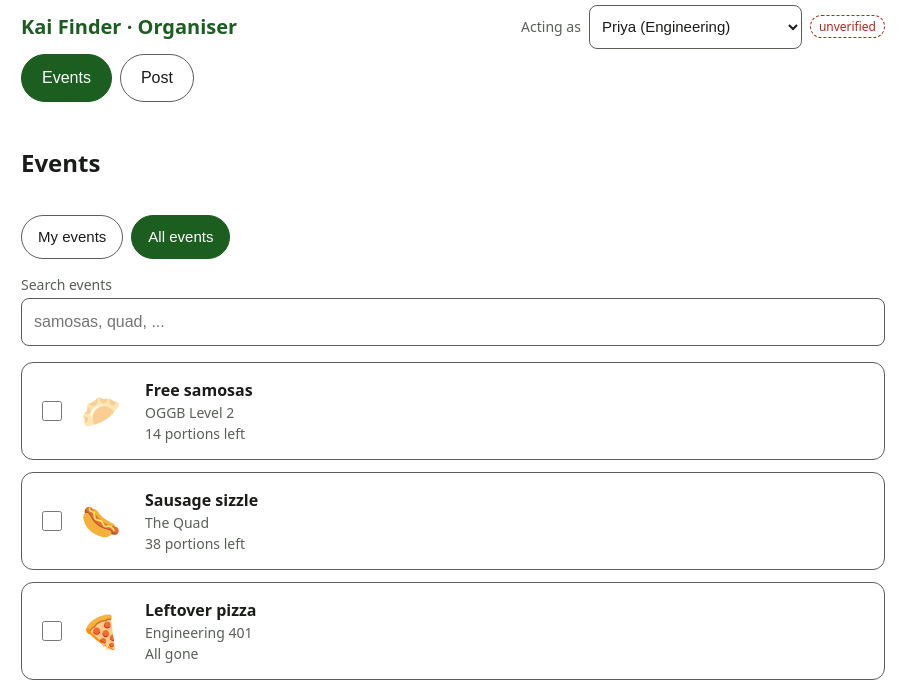
Test case: organisers › distinguishes an organiser with no events from an empty campus
Expected: the heading "Free samosas" is shown, [145,379,253,401]
Click the button "My events" at (72, 237), box [21,215,123,259]
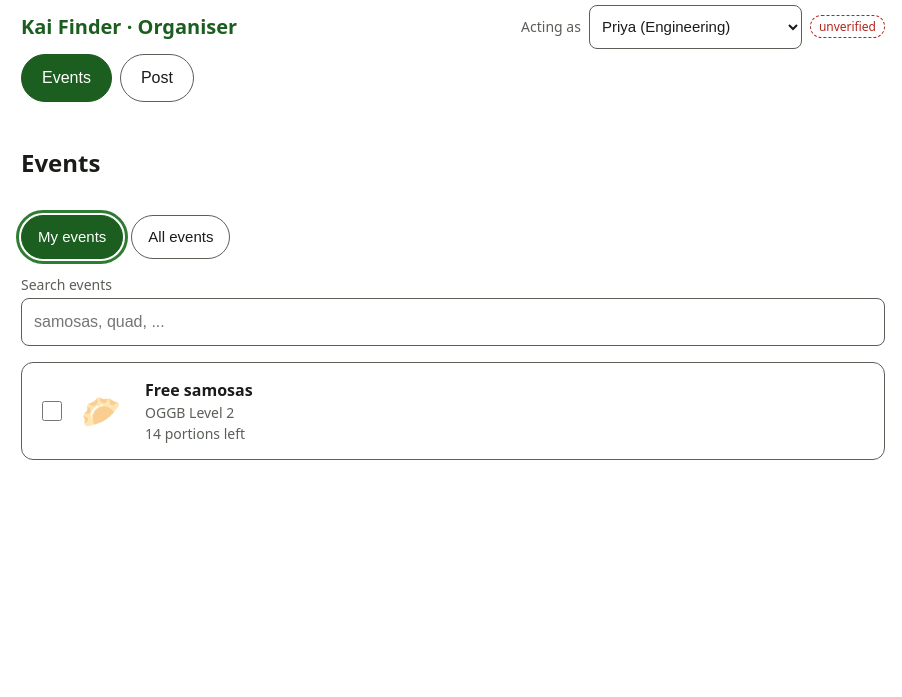
Select "Mei (Science)" in the dropdown labelled "Acting as" at (695, 27), box [589,5,802,49]
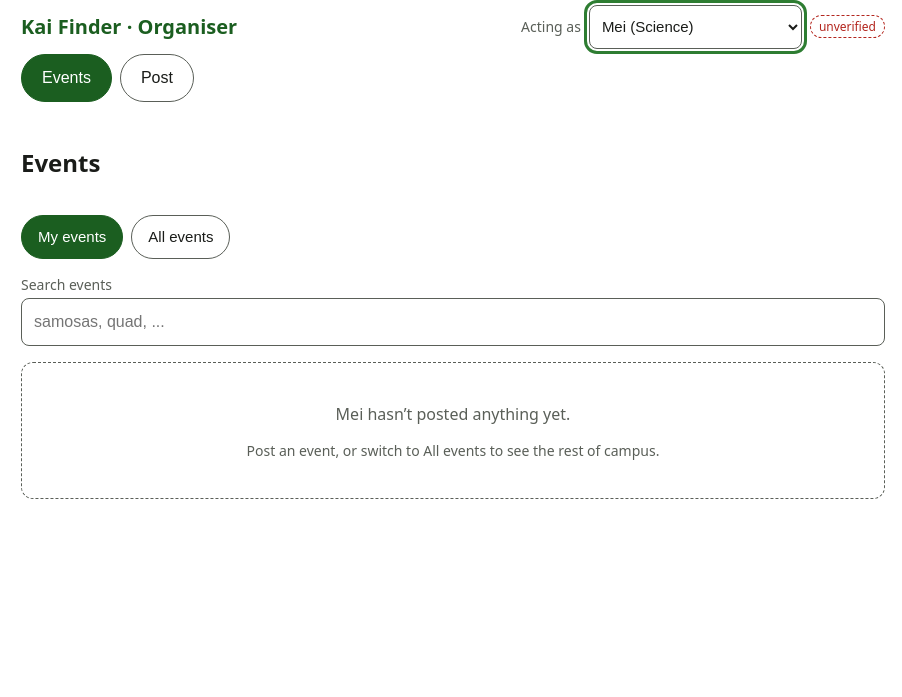
Click the button "All events" at (181, 237), box [131,215,230,259]
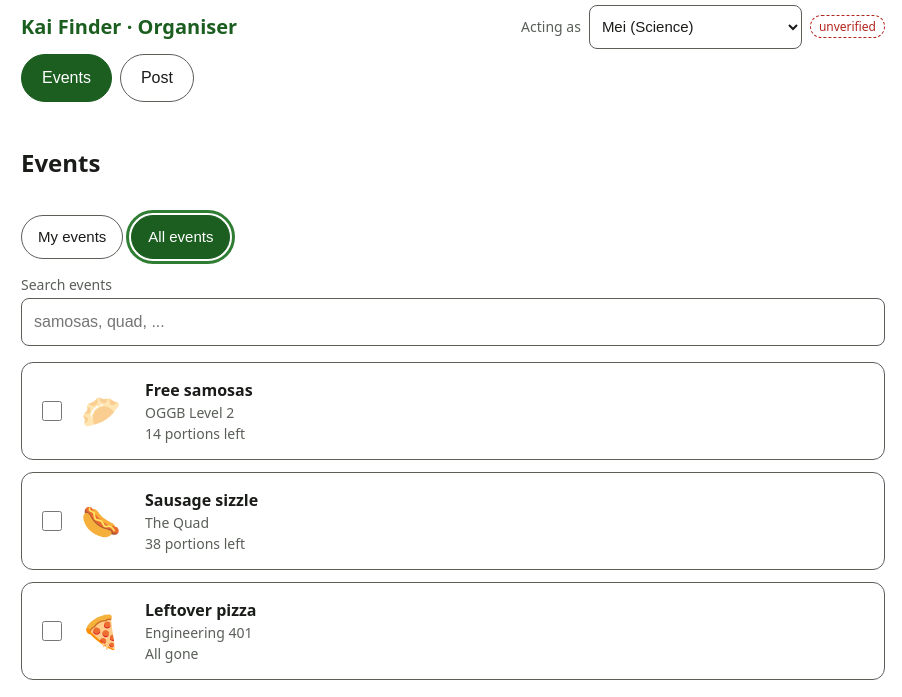
Expected: the text "hasn.t posted anything yet" is gone
Expected: the heading "Free samosas" is shown, [145,379,253,401]
